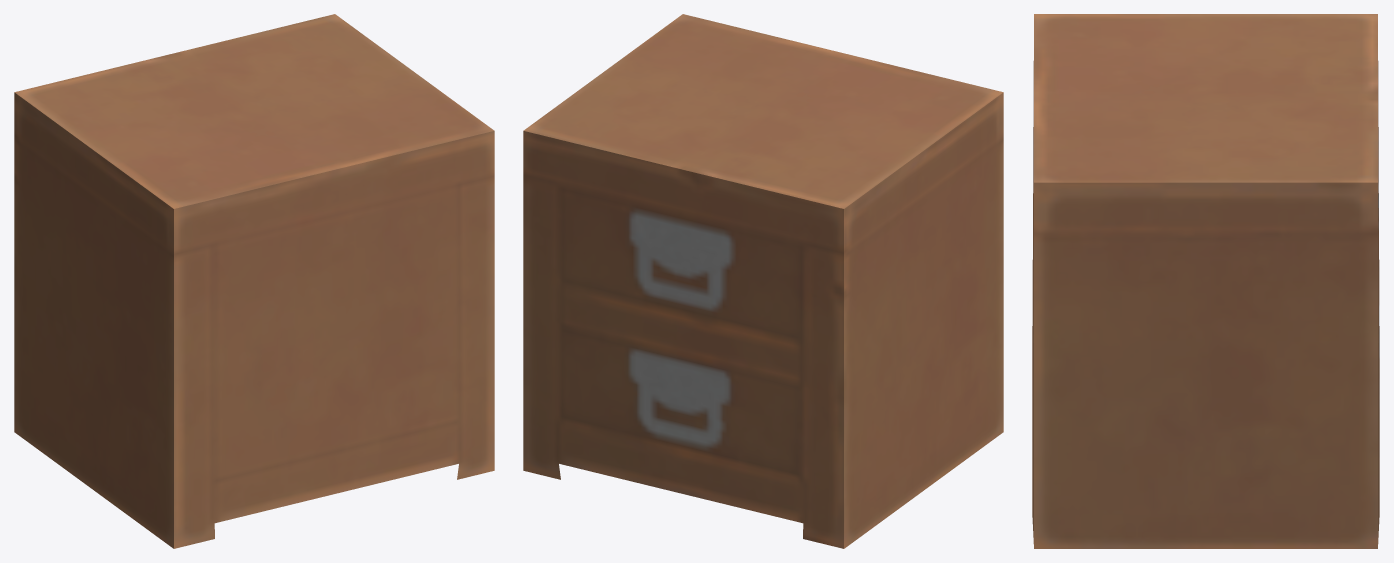
File: Prfb_Indoors_Bedroom_Besidetable.fbx
The picture shows the model from 3 angles, left to right: view 1: azimuth 30°, elevation 25°; view 2: azimuth 150°, elevation 25°; view 3: azimuth 270°, elevation 25°; orthographic projection. The views are drawn at different scales.
Visible parts, largest first — view 1: Mat_Indoors_Bedroom_01; view 2: Mat_Indoors_Bedroom_01; view 3: Mat_Indoors_Bedroom_01.
Boxes of the visible parts, x1,y1,x2,y2 form: Mat_Indoors_Bedroom_01: (14, 14, 494, 548); Mat_Indoors_Bedroom_01: (523, 14, 1003, 548); Mat_Indoors_Bedroom_01: (1032, 14, 1379, 548).
Bounding box in the file's own units: 0.7323 × 0.7417 × 0.6378.
Materials: 1 (1 with a texture image).
